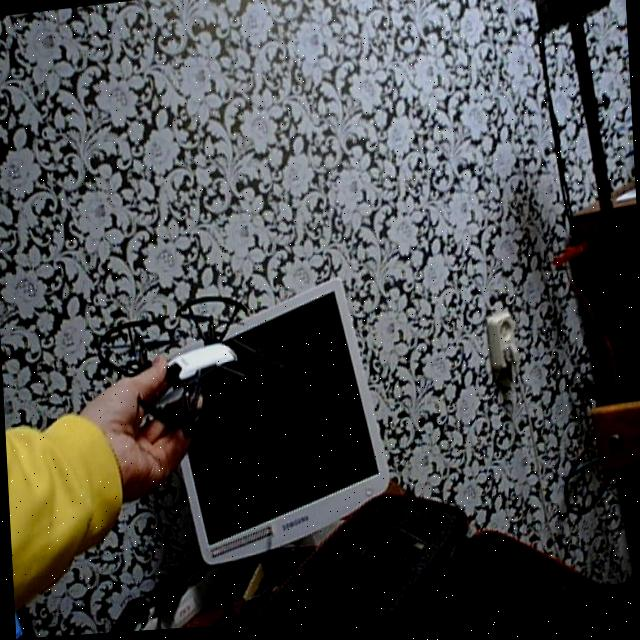drone: (96, 294, 294, 439)
